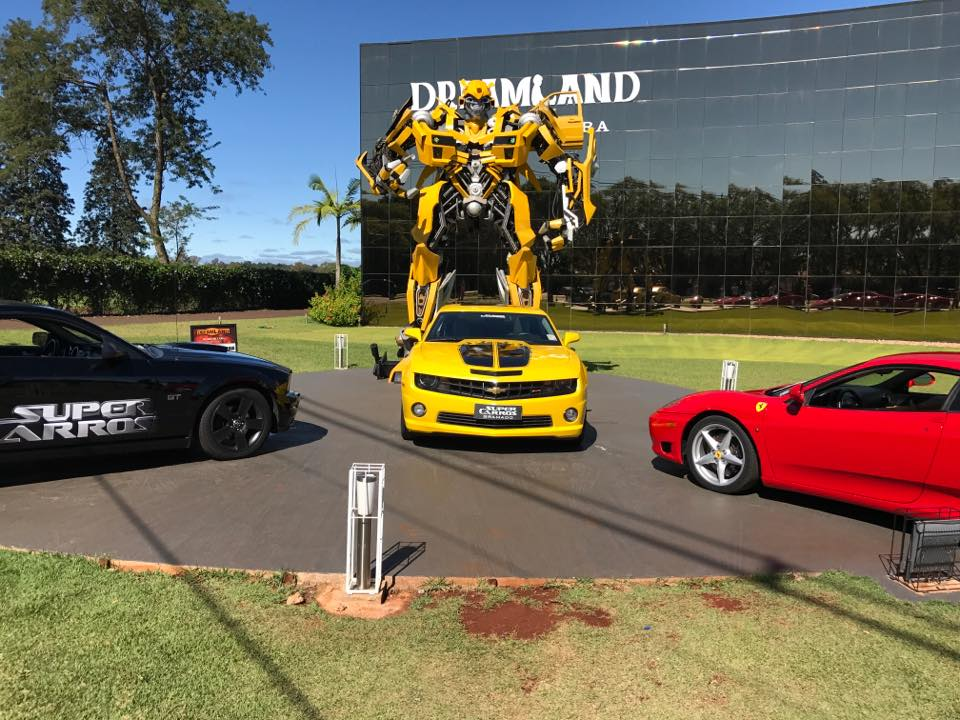Carro: (645, 340, 960, 528), (1, 306, 296, 483), (393, 296, 597, 442)
